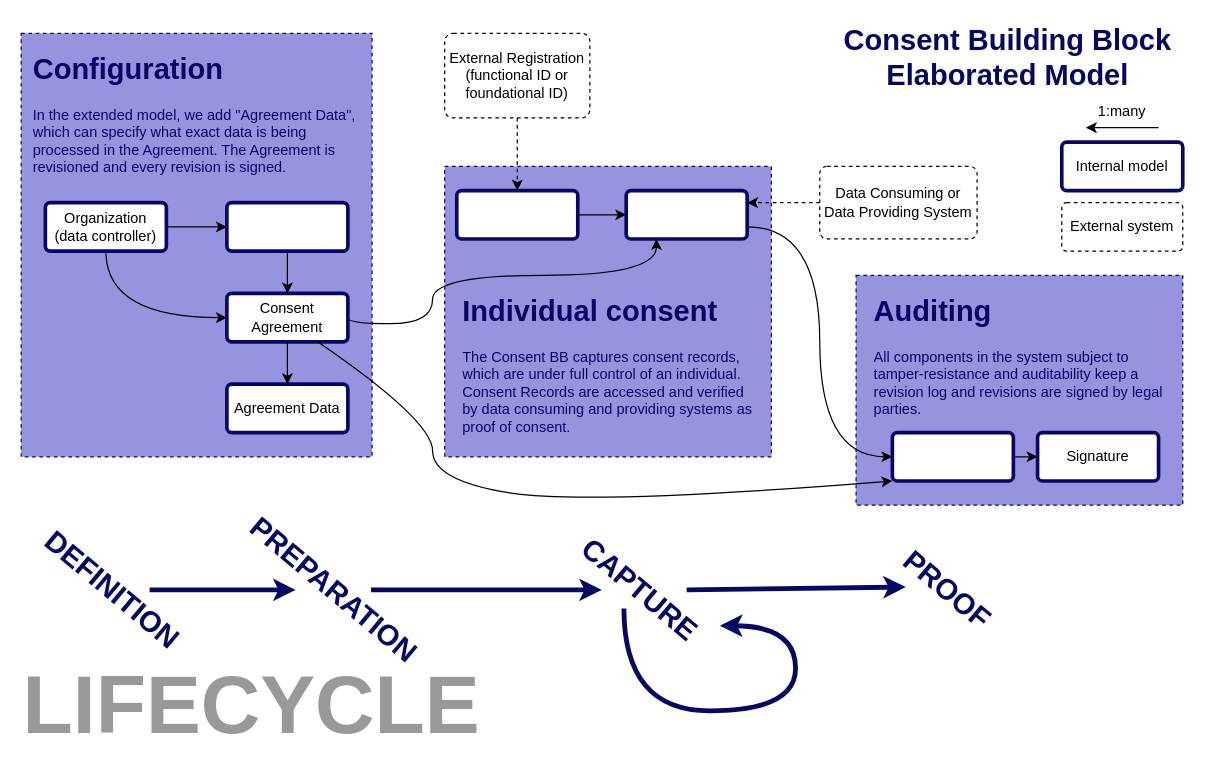
Image size: 1205x774. Some labels were removed from this diagram. The shapes that lost their labels are listed below. From the top down, each one's box as (x1, y1, x2, y2) in pixels, then its label:
(224, 200, 349, 252): Policy (data policy)
(454, 188, 579, 240): Individual
(624, 188, 748, 240): Consent Record
(890, 430, 1015, 482): Revision
